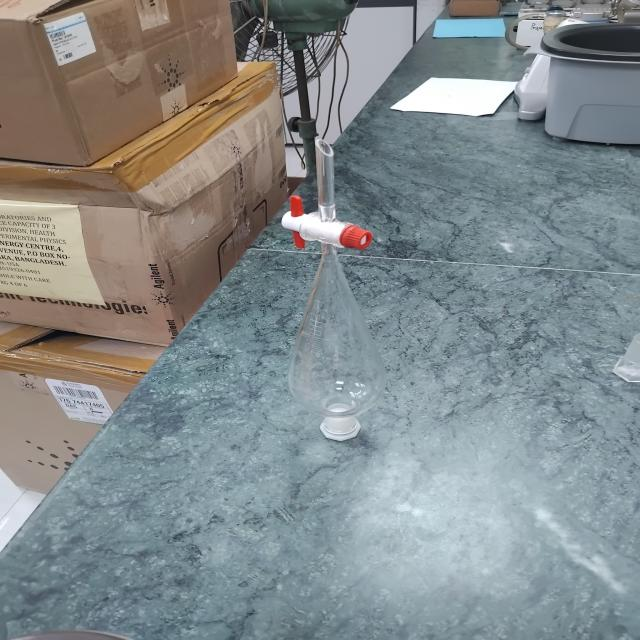Separating_Funnel: (248, 124, 411, 476)
